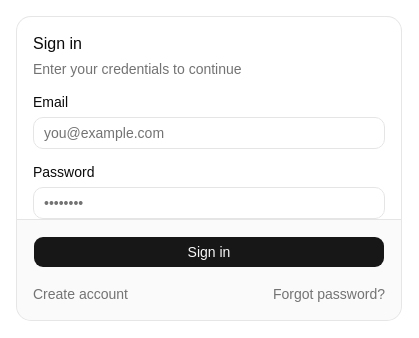
Test: LoginPage › shows loading state while signing in
The image size is (419, 338).
Type "a@b.com" into the field labelled "Email" at {"x": 209, "y": 132}, box left=33, top=116, right=385, bottom=148
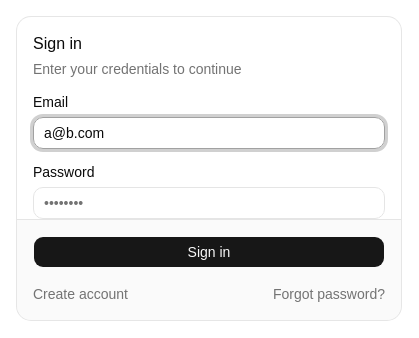
Type "Testpass1" into the password field labelled "Password" at {"x": 209, "y": 202}, box left=33, top=186, right=385, bottom=218
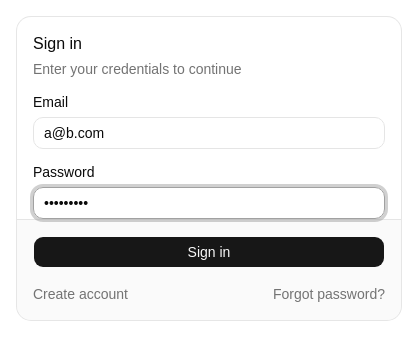
Click the button "Sign in" at {"x": 209, "y": 252}, box left=33, top=236, right=385, bottom=268
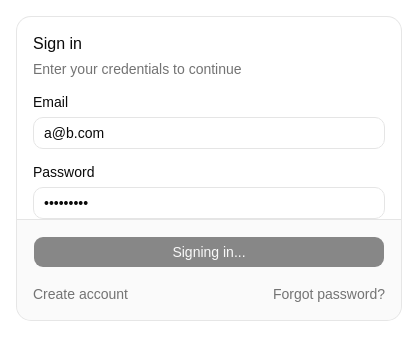
Check: the button "Signing in..." is disabled, box left=33, top=236, right=385, bottom=268
